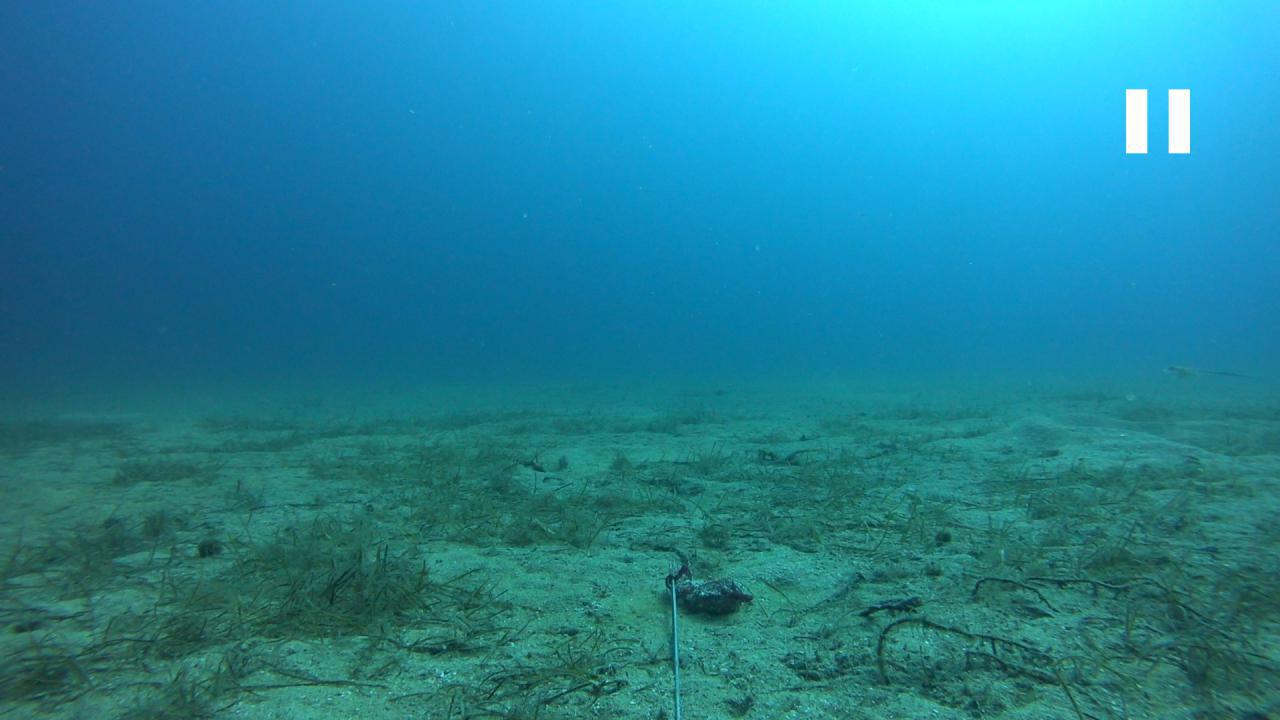dasyatis: (1159, 362, 1251, 381)
